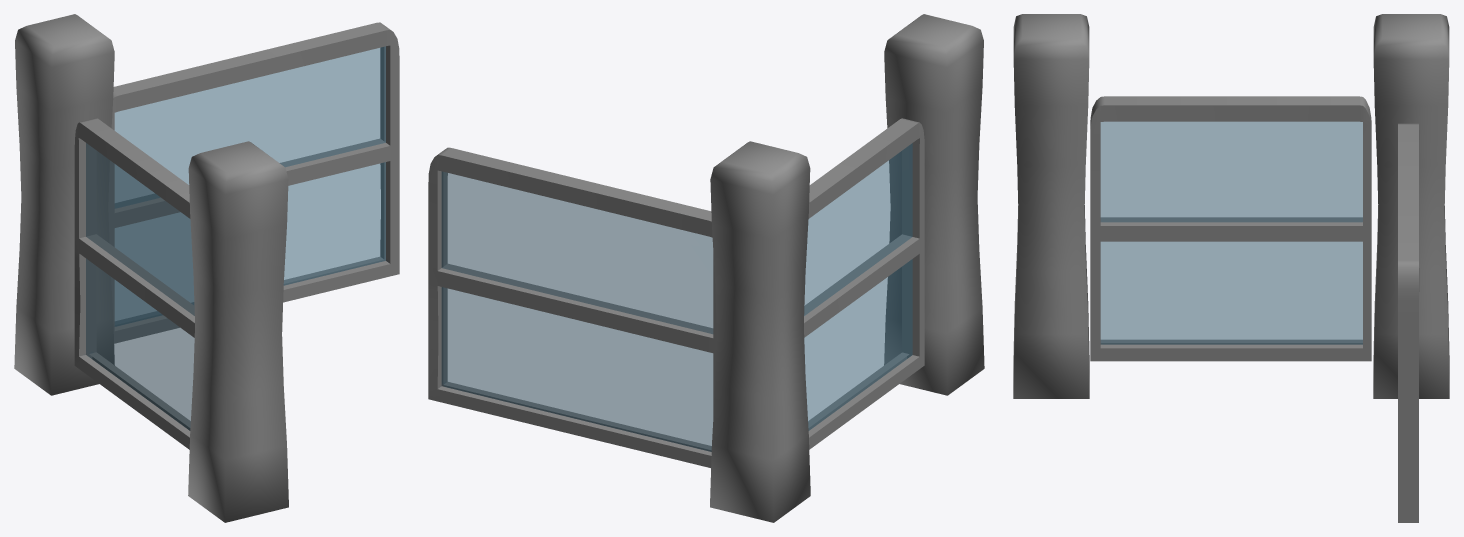
Rendered from GlassHalfWall_LeftCorner_SplitBorder.glb.
3 renders of one model, left to right at view 1: azimuth 30°, elevation 25°; view 2: azimuth 150°, elevation 25°; view 3: azimuth 270°, elevation 25°, orthographic. The views are drawn at different scales.
Parts seen in each view (by area): view 1: 5-StraightGlassBorder.010, 3-PostNARROWER.011, 5-StraightGlassBorder.011, 3-PostNARROWER.009; view 2: 5-StraightGlassBorder.010, 3-PostNARROWER.009, 5-StraightGlassBorder.011, 3-PostNARROWER.011; view 3: 5-StraightGlassBorder.011, 3-PostNARROWER.011, 3-PostNARROWER.009, 5-StraightGlassBorder.010.
Part boxes in pixels (left/top/right/bottom): 5-StraightGlassBorder.010: left=108, top=22, right=399, bottom=343; 3-PostNARROWER.011: left=188, top=141, right=288, bottom=522; 5-StraightGlassBorder.011: left=74, top=118, right=194, bottom=449; 3-PostNARROWER.009: left=14, top=14, right=114, bottom=395; 5-StraightGlassBorder.010: left=428, top=147, right=716, bottom=467; 3-PostNARROWER.009: left=710, top=141, right=810, bottom=522; 5-StraightGlassBorder.011: left=804, top=118, right=924, bottom=449; 3-PostNARROWER.011: left=884, top=14, right=984, bottom=395; 5-StraightGlassBorder.011: left=1090, top=96, right=1371, bottom=361; 3-PostNARROWER.011: left=1013, top=14, right=1089, bottom=398; 3-PostNARROWER.009: left=1373, top=14, right=1449, bottom=398; 5-StraightGlassBorder.010: left=1398, top=123, right=1419, bottom=522.
Bounding box in the file's own units: 1.09 × 0.9929 × 1.1.
Materials: 3 (3 with a texture image).
